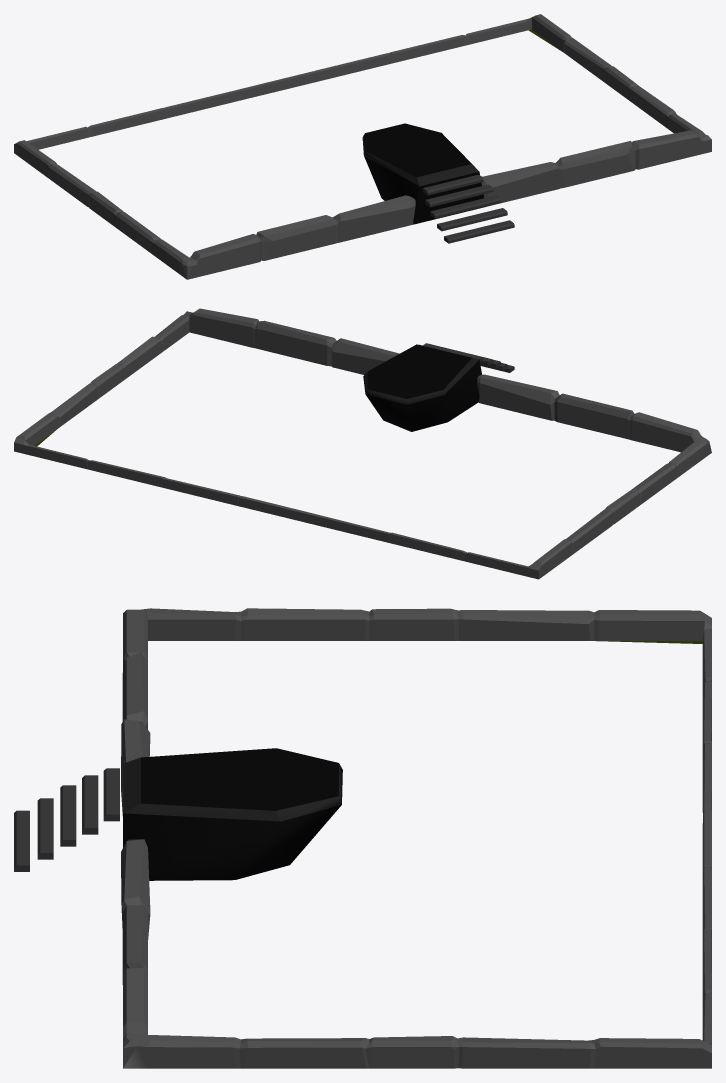
Rendered from terrain-border.glb.
The picture shows the model from 3 angles, top to bottom: view 1: azimuth 30°, elevation 25°; view 2: azimuth 150°, elevation 25°; view 3: azimuth 270°, elevation 25°; orthographic projection. The views are drawn at different scales.
Parts seen in each view (by area): view 1: terrain-border; view 2: terrain-border; view 3: terrain-border.
Part boxes in pixels (left/top/right/bottom): terrain-border: left=14, top=14, right=711, bottom=279; terrain-border: left=14, top=308, right=711, bottom=579; terrain-border: left=14, top=608, right=711, bottom=1068.
Size of what is drawn, in the model's own units: 14.03 by 1.05 by 9.48.
Materials: 1 (1 with a texture image).
